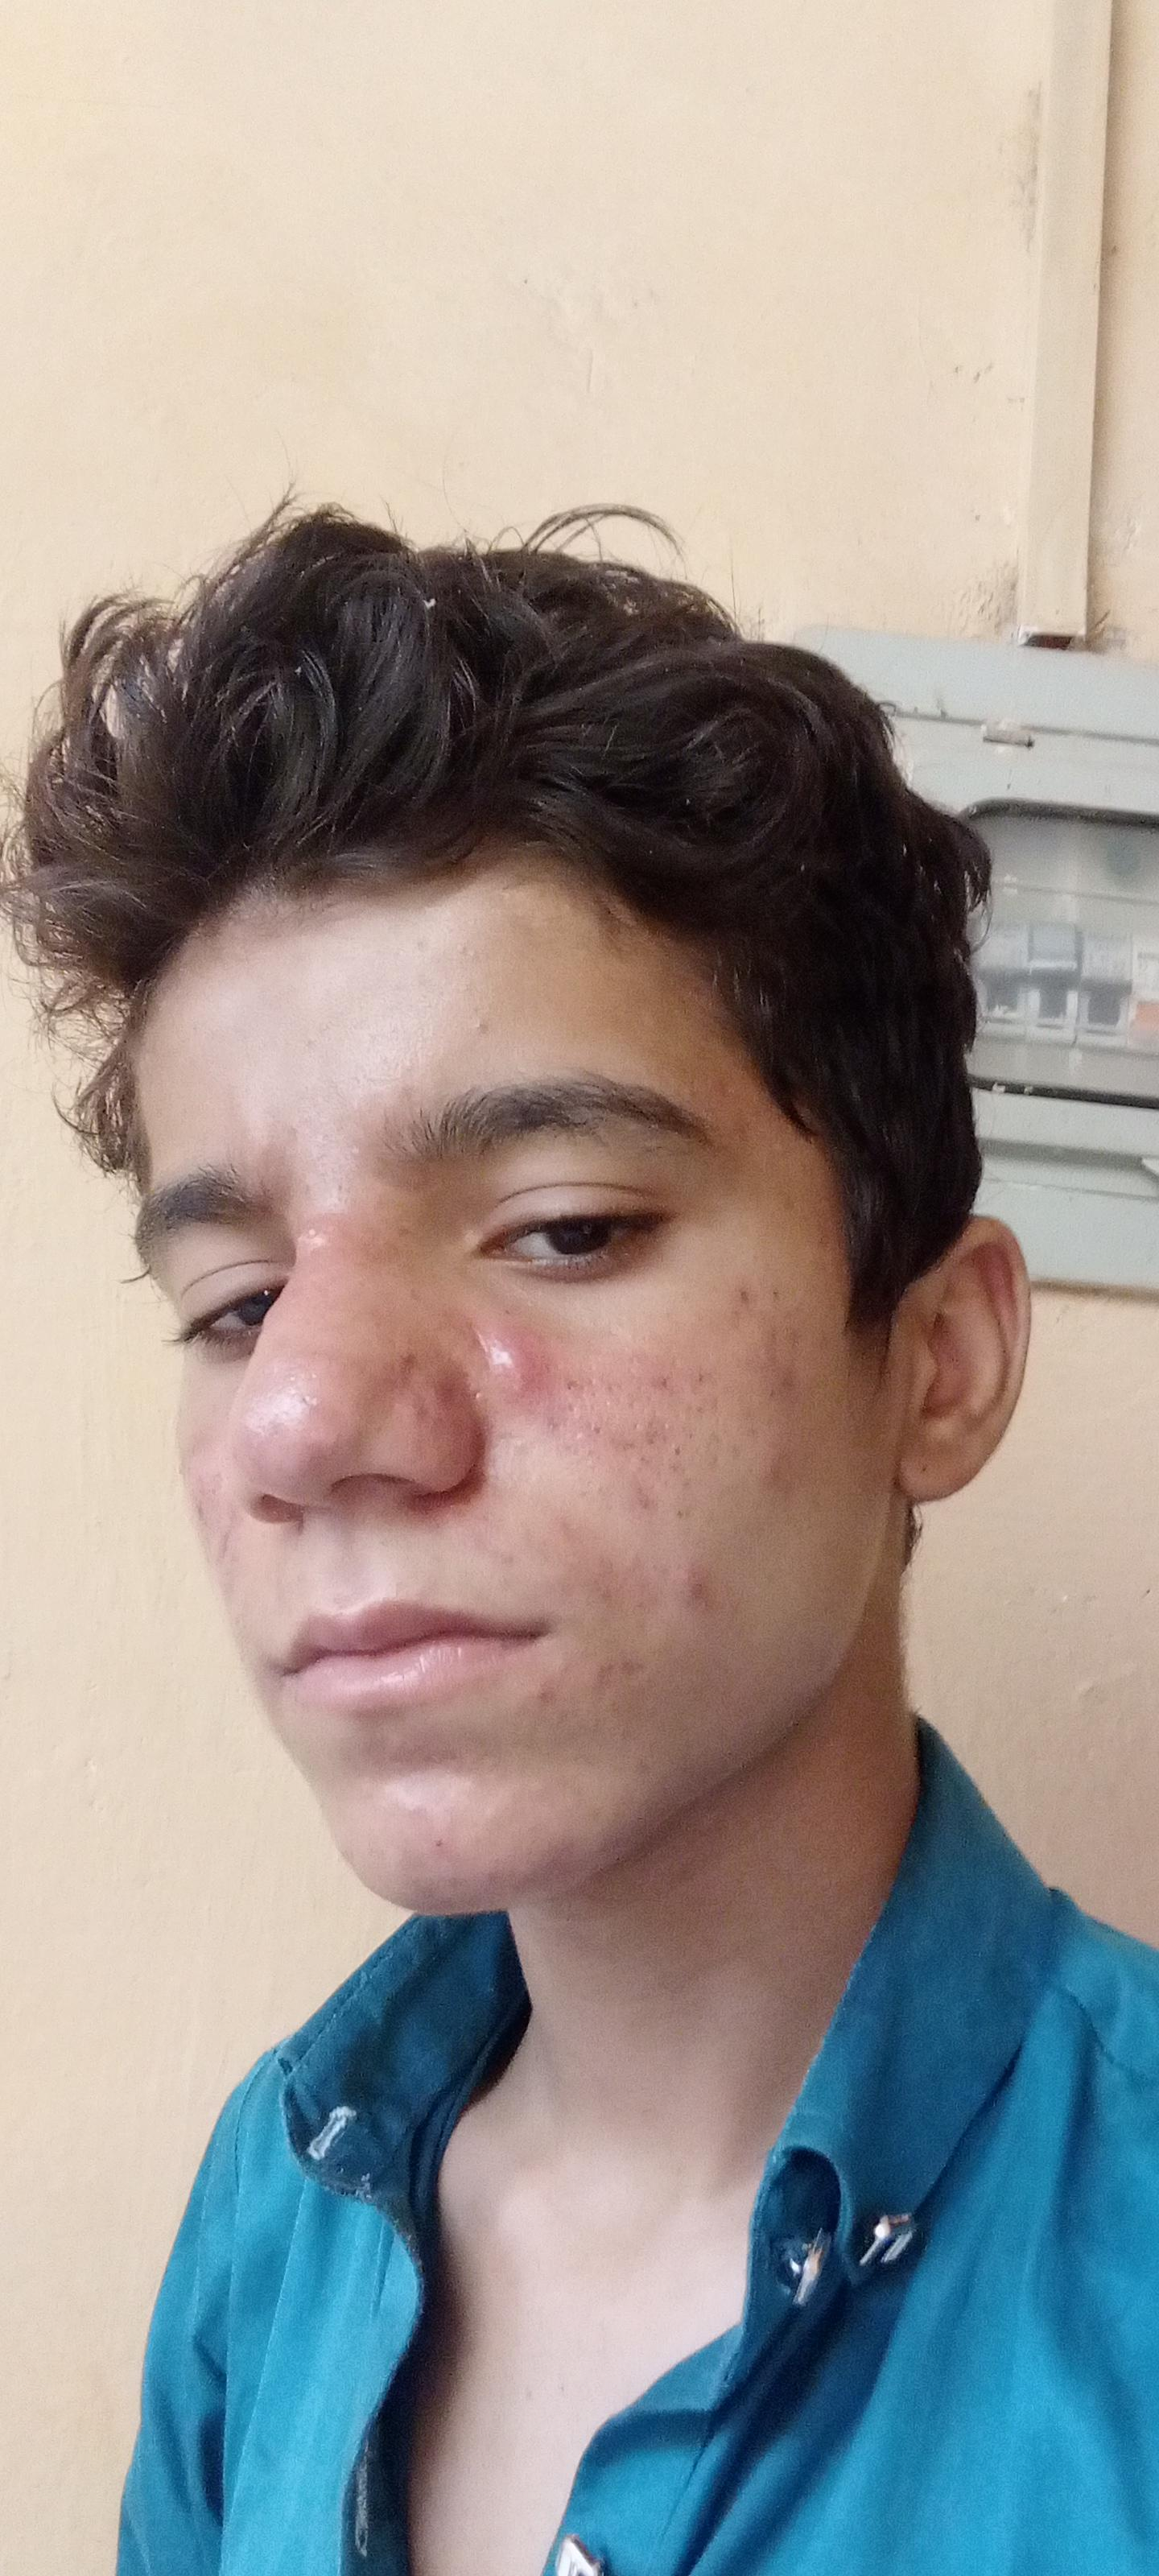Acne: (494, 1326, 545, 1390), (671, 1561, 731, 1605), (295, 1204, 340, 1255), (763, 1329, 798, 1387), (596, 1651, 645, 1690), (450, 1010, 497, 1048), (709, 1280, 754, 1319), (622, 1480, 662, 1523), (757, 1444, 793, 1488), (520, 1681, 565, 1715), (432, 1370, 458, 1410), (486, 1546, 522, 1572), (402, 1395, 427, 1429), (415, 1833, 447, 1860), (397, 1344, 422, 1373)
Englarged-Pores: (560, 1373, 742, 1484), (182, 1460, 233, 1556)
